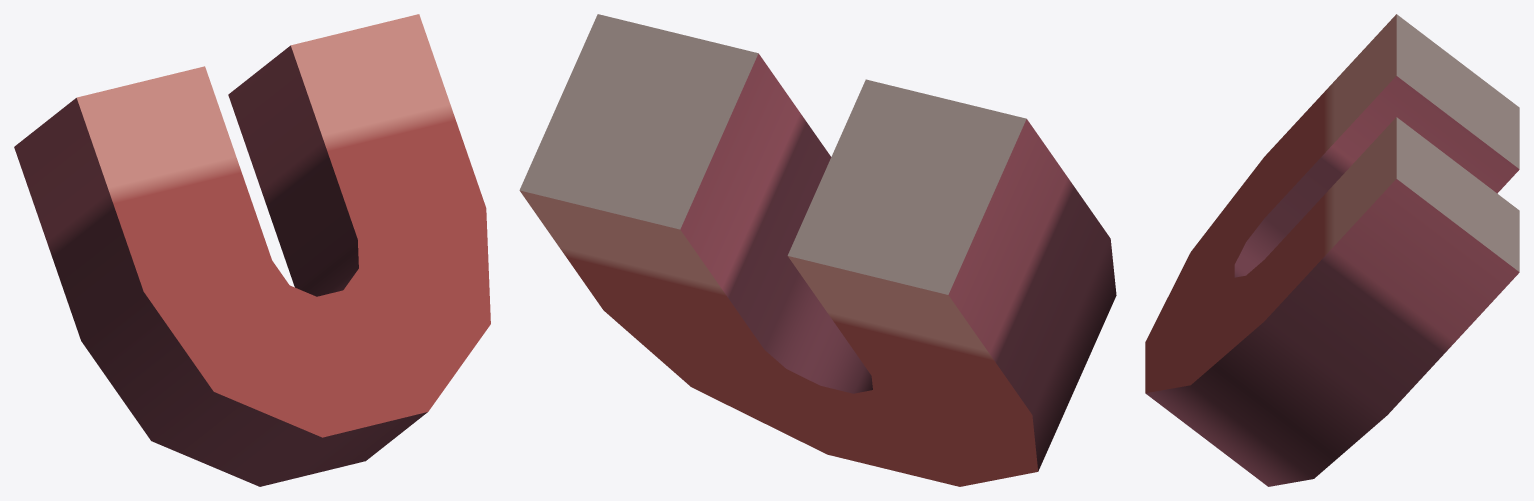
The model's file is magnet.fbx.
The picture shows the model from 3 angles, left to right: view 1: azimuth 30°, elevation 25°; view 2: azimuth 150°, elevation 25°; view 3: azimuth 270°, elevation 25°; orthographic projection. The views are drawn at different scales.
Parts seen in each view (by area): view 1: magnet; view 2: magnet; view 3: magnet.
Part boxes in pixels (x1,y1,x2,y2): magnet: (14,14,490,486); magnet: (519,14,1116,486); magnet: (1145,14,1519,486).
Size of the model in its own units: 99.64 by 103 by 95.76.
1 material, 1 textured.
